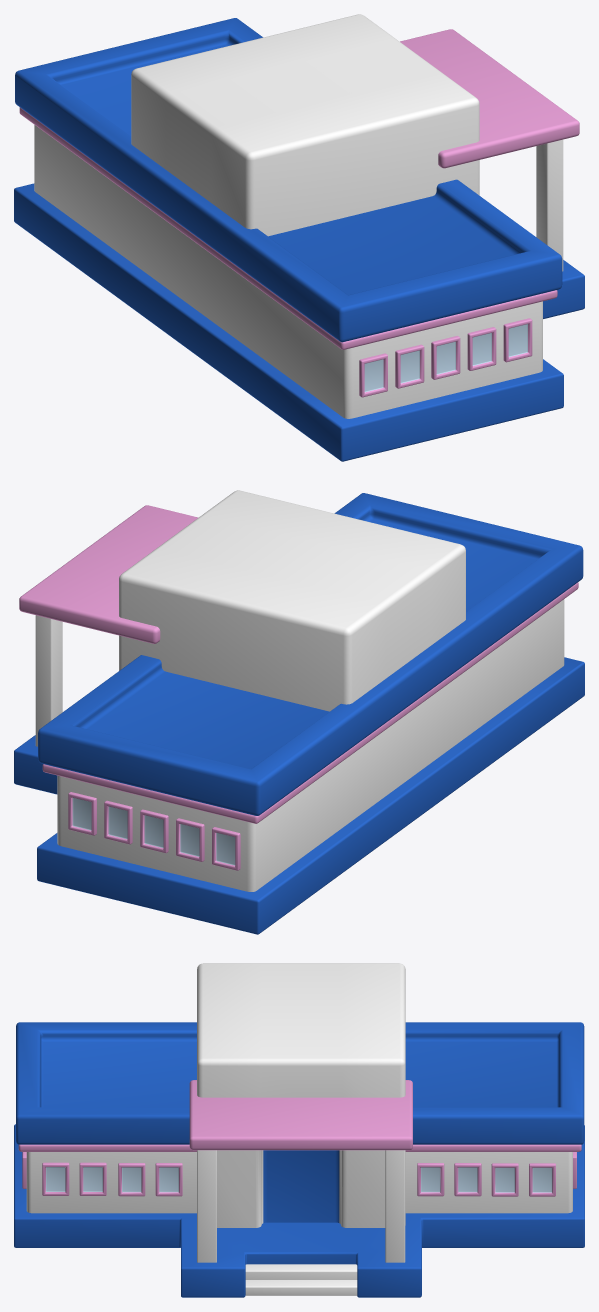
File: PIP_nursing-home-3d-7.glb
The picture shows the model from 3 angles, top to bottom: view 1: azimuth 30°, elevation 25°; view 2: azimuth 150°, elevation 25°; view 3: azimuth 270°, elevation 25°; orthographic projection. The views are drawn at different scales.
Parts seen in each view (by area): view 1: Cube.051, Cube.052, Cube.060, Cube.067, Cube.068, Cube.080, Cube.065, Cube.072; view 2: Cube.051, Cube.052, Cube.060, Cube.067, Cube.068, Cube.081, Cube.065, Cube.071; view 3: Cube.052, Cube.051, Cube.067, Cube.060, Cube.068, Cube.065, Cube.071, Cube.072, Cube.070, Cube.069, Cube.079, Cube.082 (+6 smaller).
Part boxes in pixels (x1,y1,x2,y2): Cube.051: (131, 14, 479, 236); Cube.052: (15, 18, 562, 342); Cube.060: (34, 125, 542, 418); Cube.067: (14, 183, 584, 461); Cube.068: (400, 29, 579, 168); Cube.080: (359, 318, 532, 397); Cube.065: (19, 107, 557, 349); Cube.072: (536, 139, 563, 271); Cube.051: (119, 490, 465, 711); Cube.052: (38, 493, 583, 815); Cube.060: (57, 599, 564, 891); Cube.067: (14, 657, 584, 934); Cube.068: (19, 505, 198, 643); Cube.081: (68, 792, 240, 870); Cube.065: (42, 582, 578, 823); Cube.071: (35, 615, 62, 746); Cube.052: (16, 1022, 584, 1144); Cube.051: (197, 963, 405, 1227); Cube.067: (14, 1124, 584, 1297); Cube.060: (26, 1152, 572, 1213); Cube.068: (189, 1080, 412, 1150); Cube.065: (18, 1144, 581, 1151); Cube.071: (385, 1150, 405, 1262); Cube.072: (197, 1150, 216, 1262); Cube.070: (245, 1280, 357, 1295); Cube.069: (245, 1264, 357, 1279); Cube.079: (454, 1163, 481, 1196); Cube.082: (118, 1163, 145, 1196).
Size of the model in its own units: 0.8053 by 0.5128 by 1.34.
